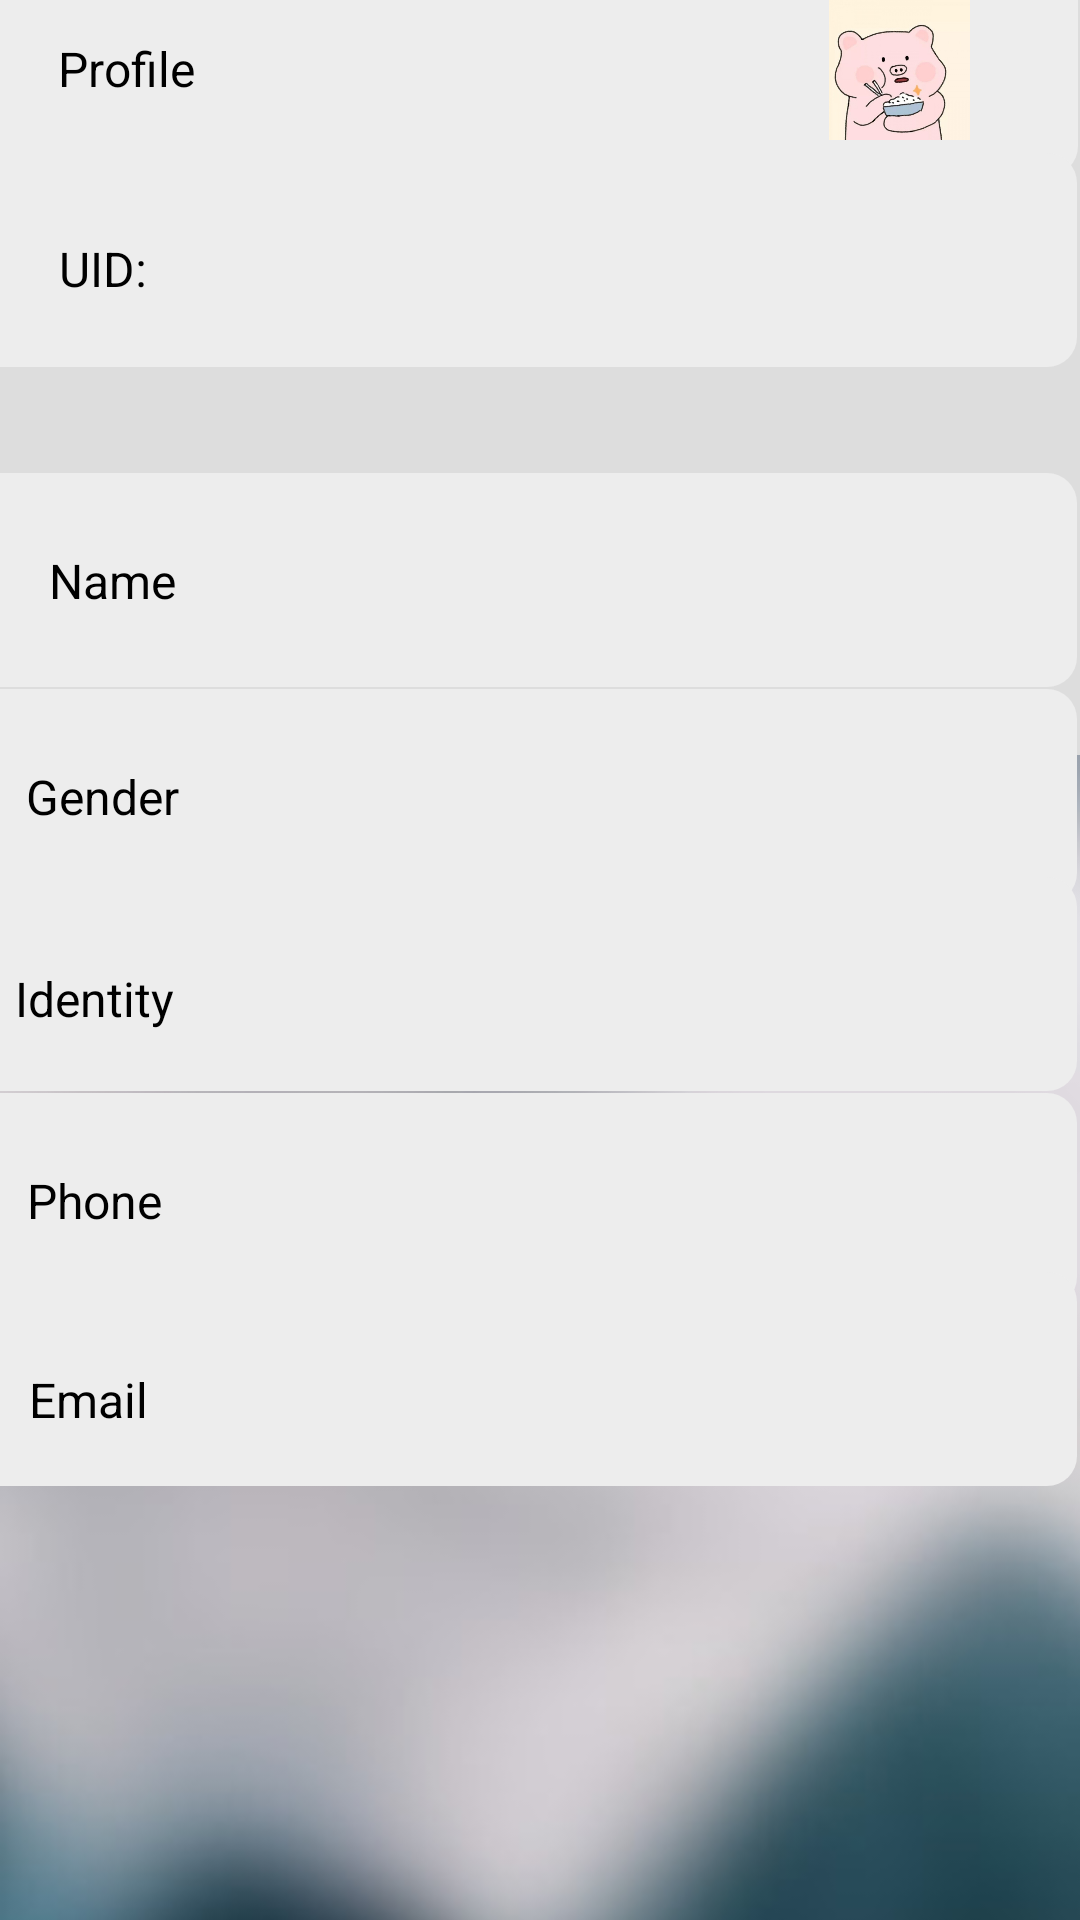

Named icons in this screenshot (1080px×1920px) and their bounding boxes, box(x1, y1, x2, y2):
profile: box(829, 0, 970, 140)
